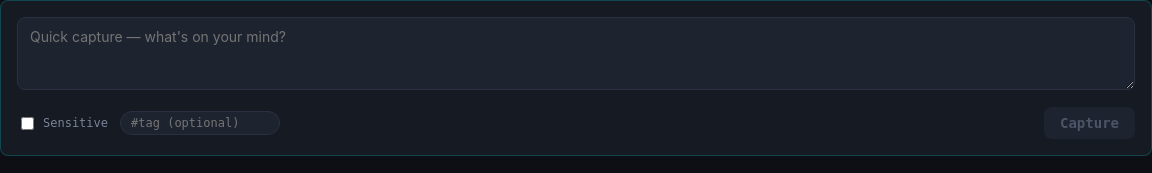
Test case: QuickNoteForm › should enable submit button when text is entered
This screenshot has width=1152, height=173.
Type "Test note" into the text box with test id "quick-note-text-input" at (576, 54), box [17,17,1135,90]
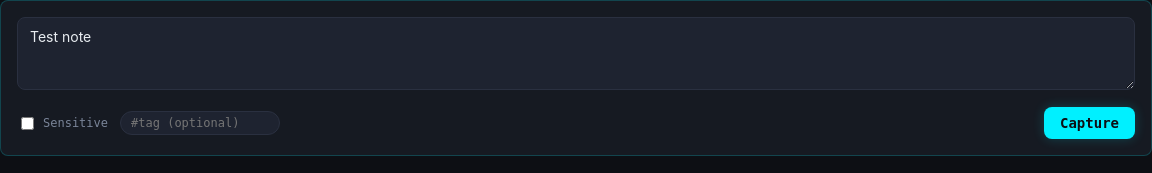
Result: the button with test id "quick-note-submit-btn" is enabled at [1044,107,1135,139]
